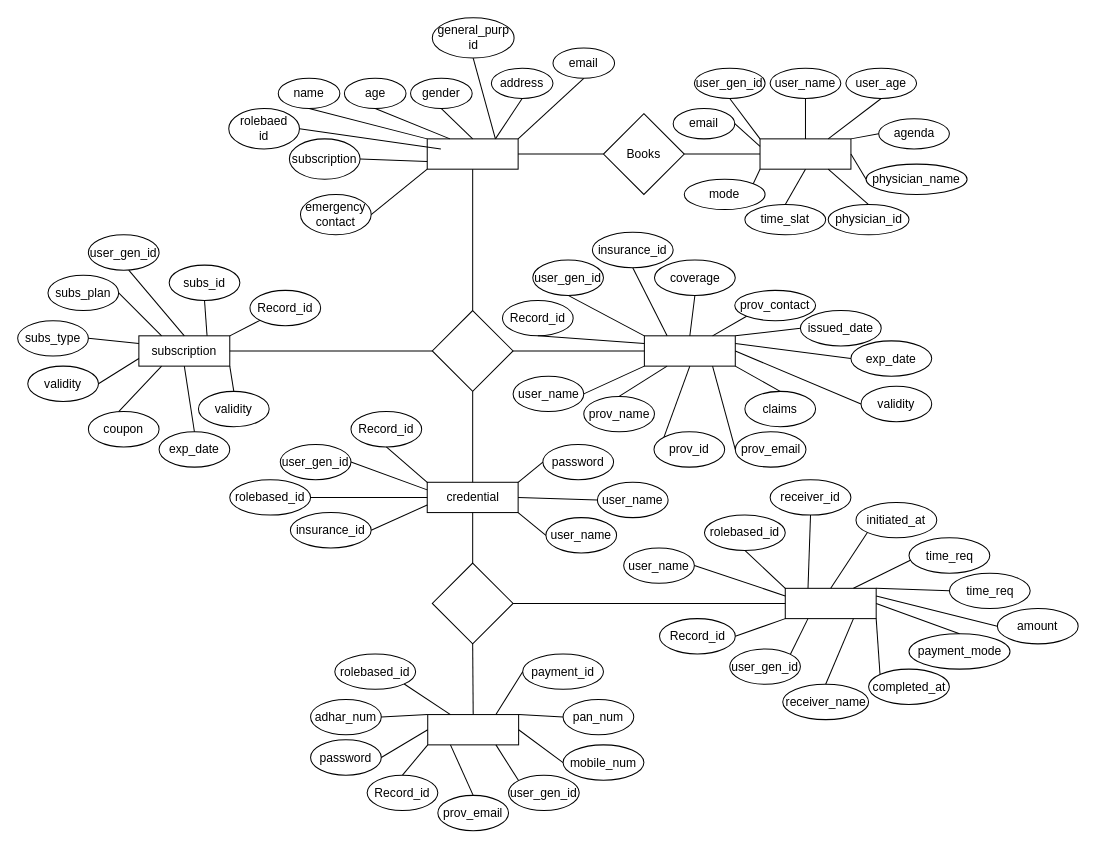
The diagram is 1096 pixels wide and 848 high, and some of its shapes have lost their labels. The shapes that lost their labels are listed below. From the top down, each one's centre as x and y in pixels, then its label:
point (472, 153): user
point (805, 153): appointment
point (472, 350): HAS A
point (689, 350): insurance
point (472, 603): contains
point (830, 603): payment
point (473, 729): auth_data
